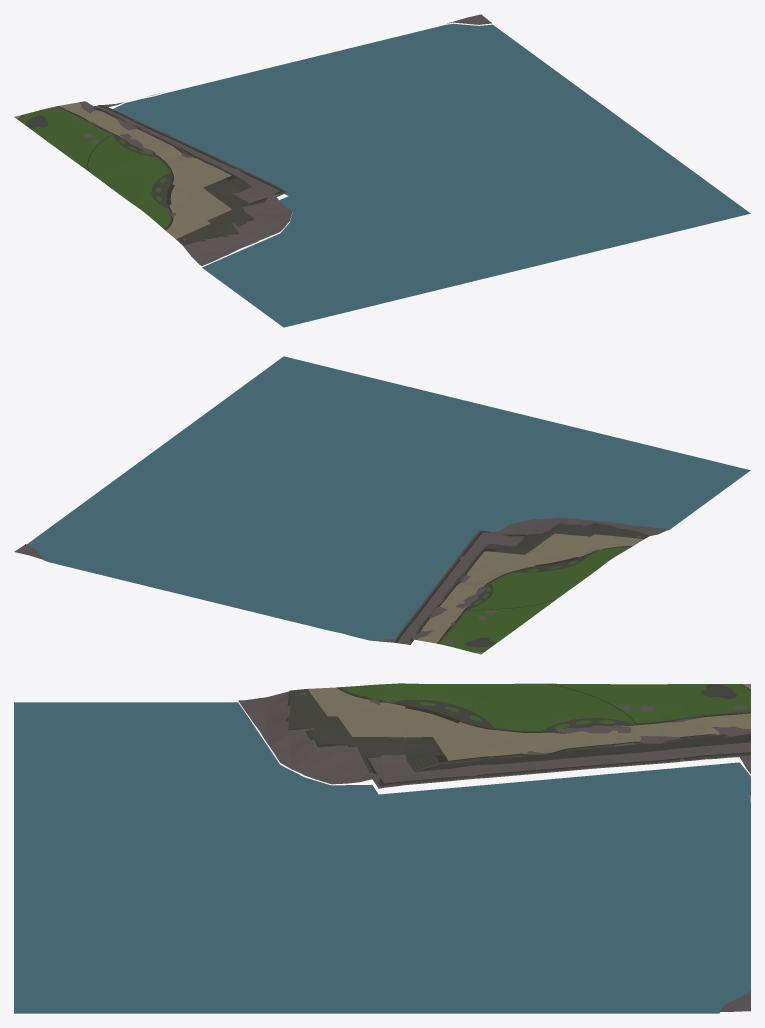
The picture shows the model from 3 angles, top to bottom: view 1: azimuth 30°, elevation 25°; view 2: azimuth 150°, elevation 25°; view 3: azimuth 270°, elevation 25°; orthographic projection. The views are drawn at different scales.
Visible parts, largest first — view 1: c_m08_p13; view 2: c_m08_p13; view 3: c_m08_p13.
Part boxes in pixels (x1,y1,x2,y2): c_m08_p13: [14, 14, 750, 327]; c_m08_p13: [14, 356, 750, 654]; c_m08_p13: [14, 683, 750, 1013].
Size of the model in its own units: 128 by 3.71 by 128.
